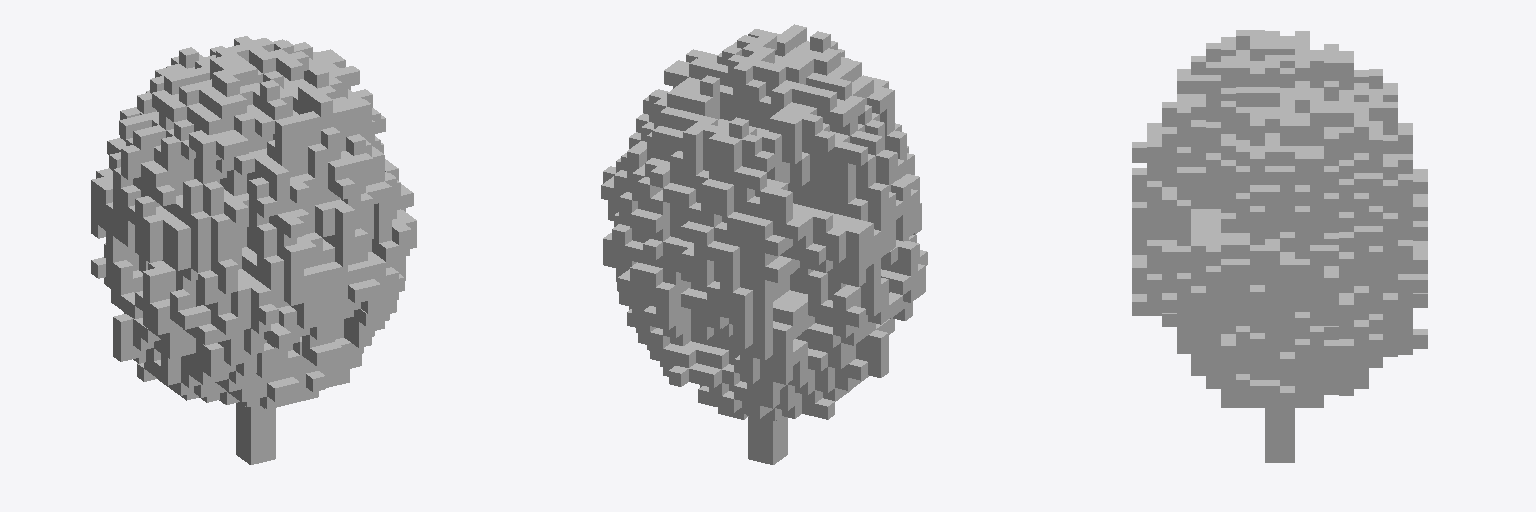
The model's file is tree4.obj.
3 renders of one model, left to right at view 1: azimuth 30°, elevation 25°; view 2: azimuth 150°, elevation 25°; view 3: azimuth 270°, elevation 25°, orthographic.
Parts seen in each view (by area): view 1: object 1; view 2: object 1; view 3: object 1.
Boxes of the visible parts, x1,y1,x2,y2 form: object 1: [91, 36, 416, 464]; object 1: [601, 24, 927, 464]; object 1: [1132, 30, 1427, 462].
Bounding box in the file's own units: 2 × 3 × 2.